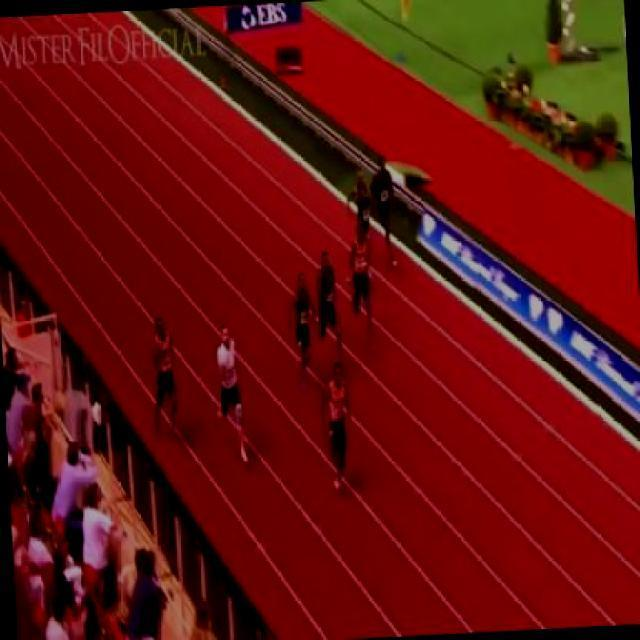non-fight: (210, 321, 247, 464), (318, 362, 356, 495), (342, 222, 376, 361), (147, 312, 181, 442), (284, 271, 320, 391), (366, 153, 399, 275), (312, 246, 341, 362), (344, 166, 370, 231)
